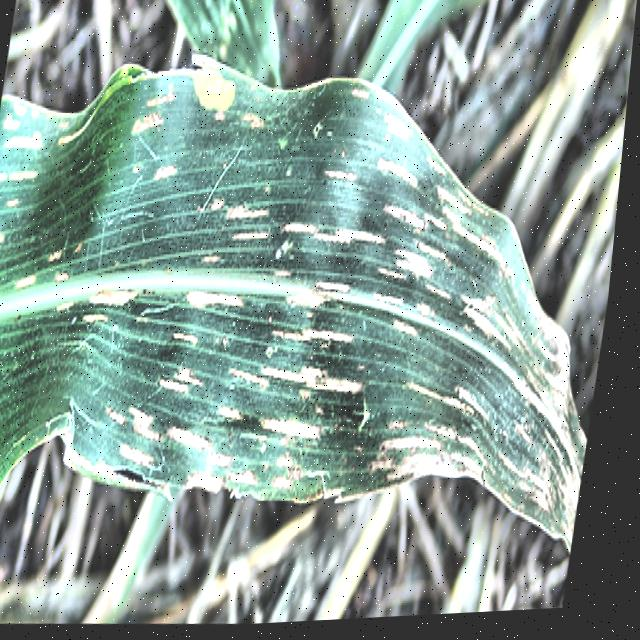gray_spot: (0, 57, 589, 546)
